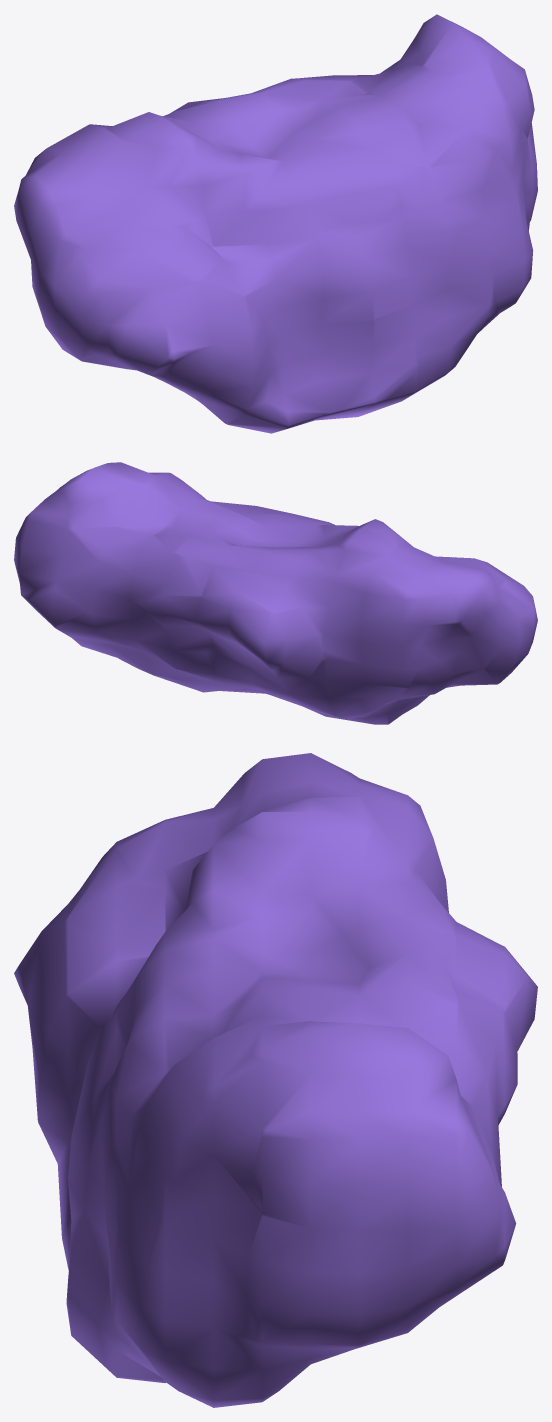
The model's file is Vesicle_20AAligned2.fbx.
3 renders of one model, top to bottom at view 1: azimuth 30°, elevation 25°; view 2: azimuth 150°, elevation 25°; view 3: azimuth 270°, elevation 25°, orthographic. The views are drawn at different scales.
Visible parts, largest first — view 1: vesicle_MeshVes20Mesh; view 2: vesicle_MeshVes20Mesh; view 3: vesicle_MeshVes20Mesh.
Boxes of the visible parts, bbox=[...] form: vesicle_MeshVes20Mesh: bbox=[14, 14, 537, 433]; vesicle_MeshVes20Mesh: bbox=[14, 462, 537, 724]; vesicle_MeshVes20Mesh: bbox=[14, 753, 537, 1407].
Size of the model in its own units: 88.15 by 46.77 by 49.33.
